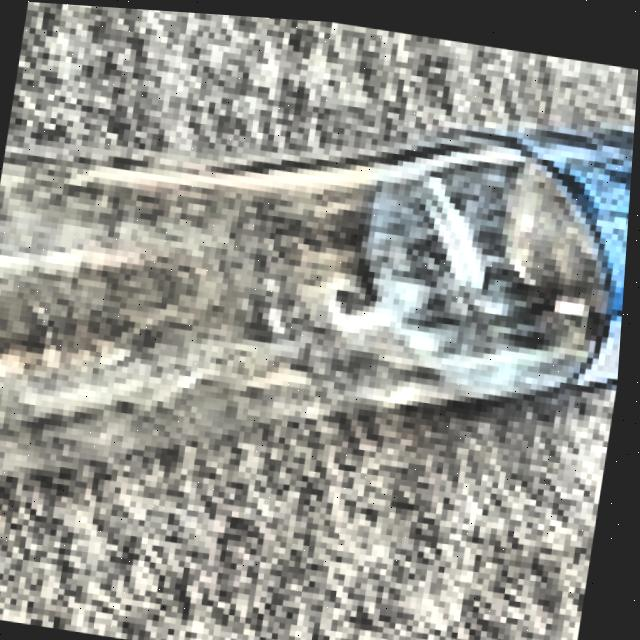plastic: (0, 53, 637, 587)
